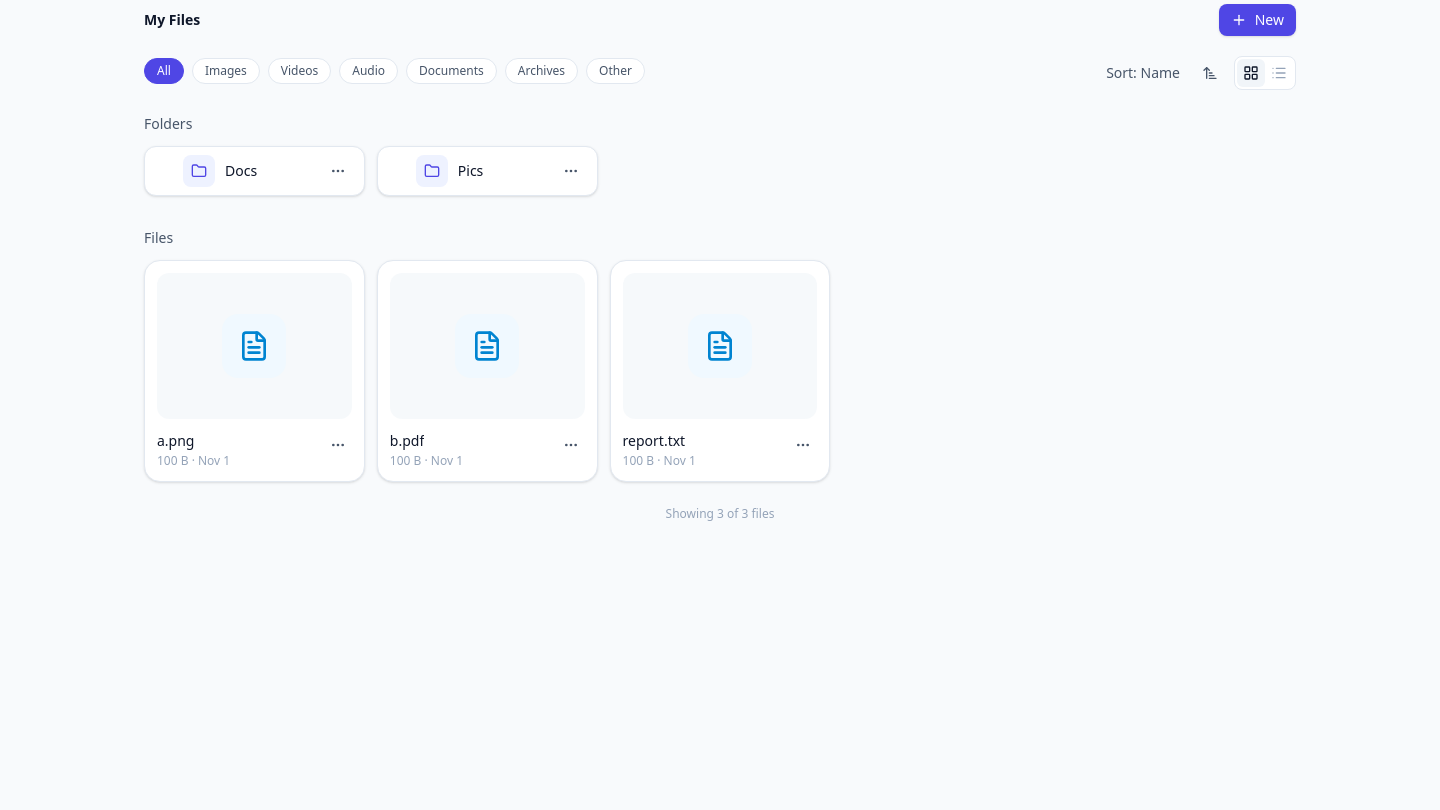
Test: rename › shows "name taken" on the field for folders
Expected: the button "report.txt" is shown, [623, 431, 685, 451]
Step 1. Click the button named "Actions for Docs" → point(338, 171), box [324, 157, 352, 185]
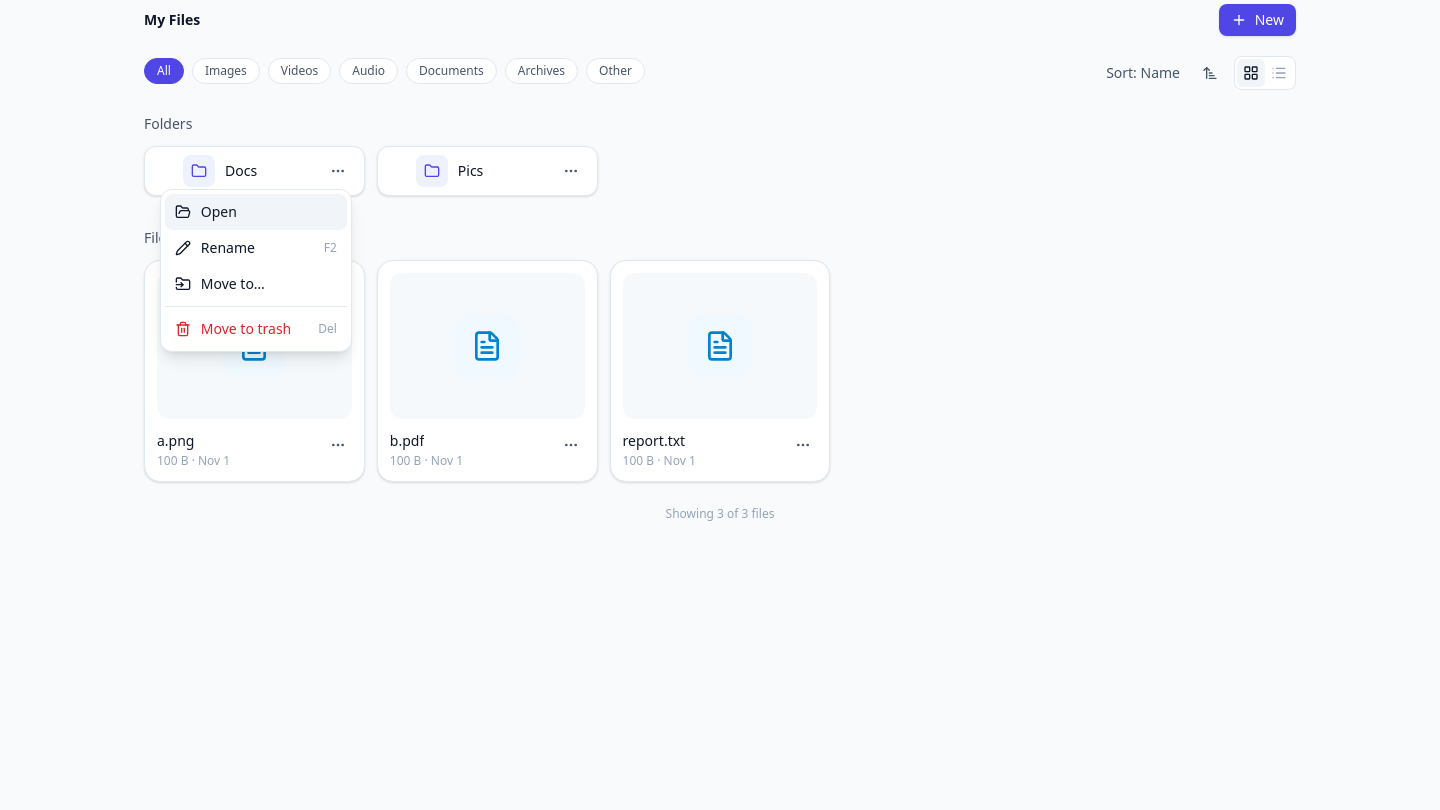
Step 2. Click the menu item "Rename F2" → point(256, 248), box [165, 230, 347, 266]
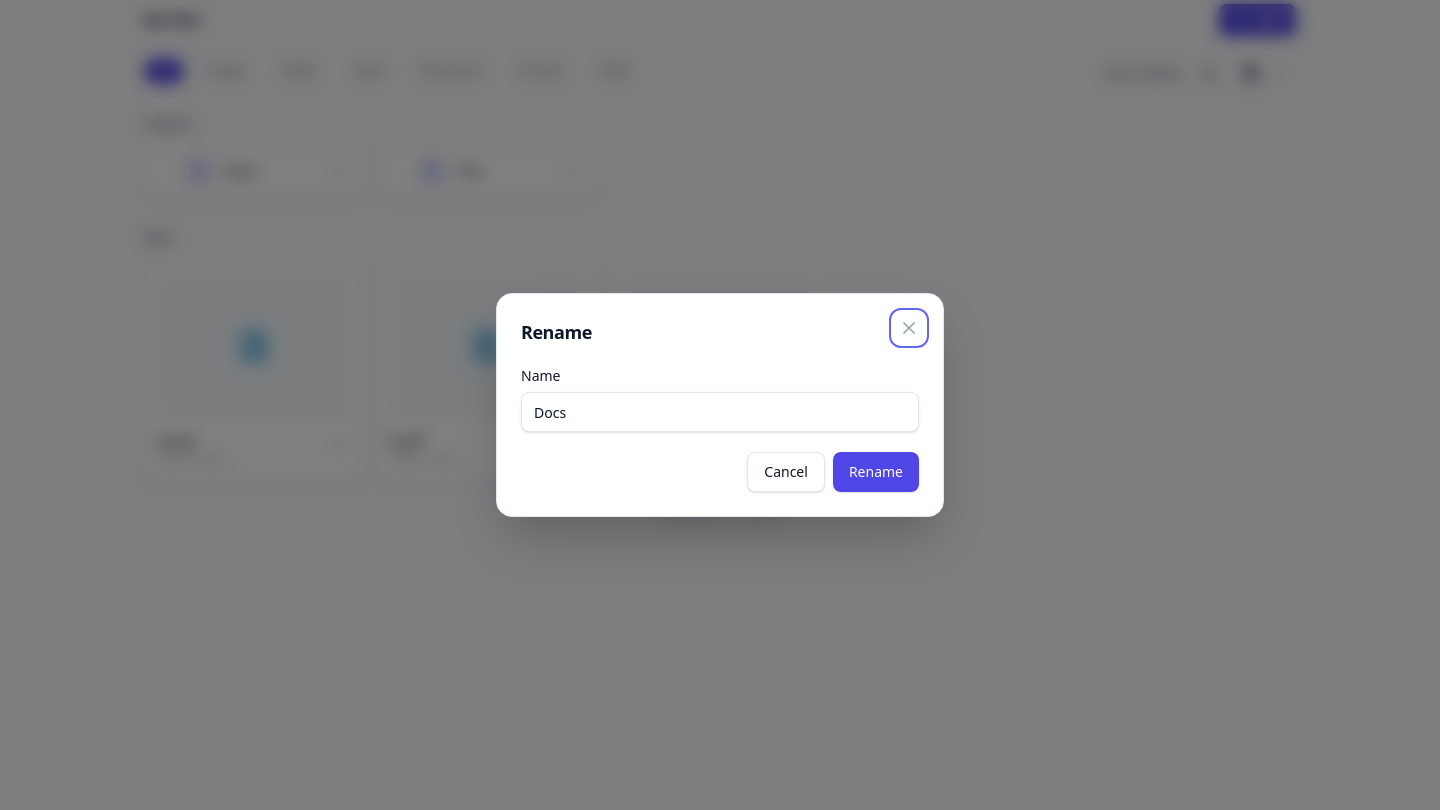
Step 3. Replace the text in the field labelled "Name" with "Pics" → point(720, 412), box [521, 392, 919, 432]
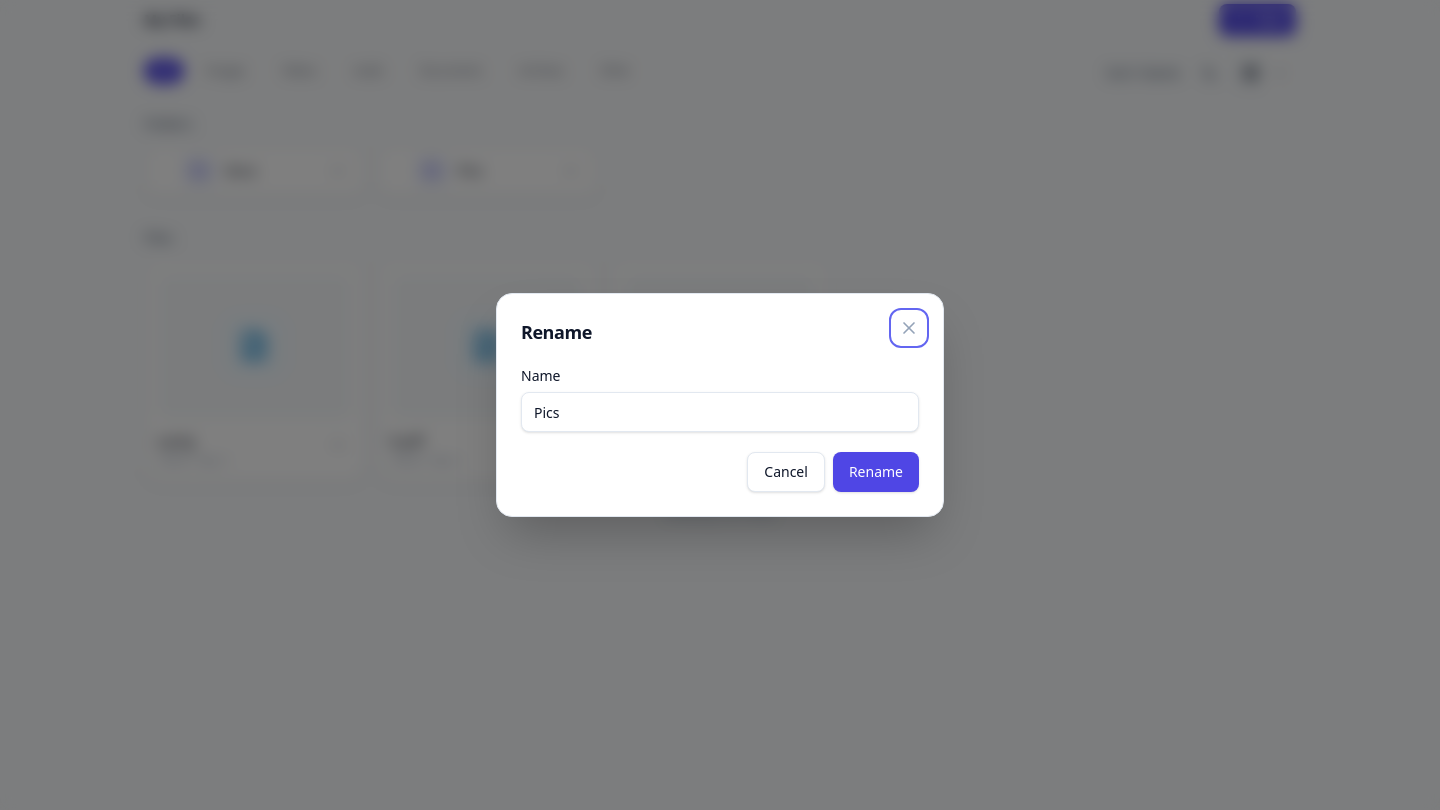
Step 4. Click the button "Rename" → point(876, 472), box [833, 452, 919, 492]
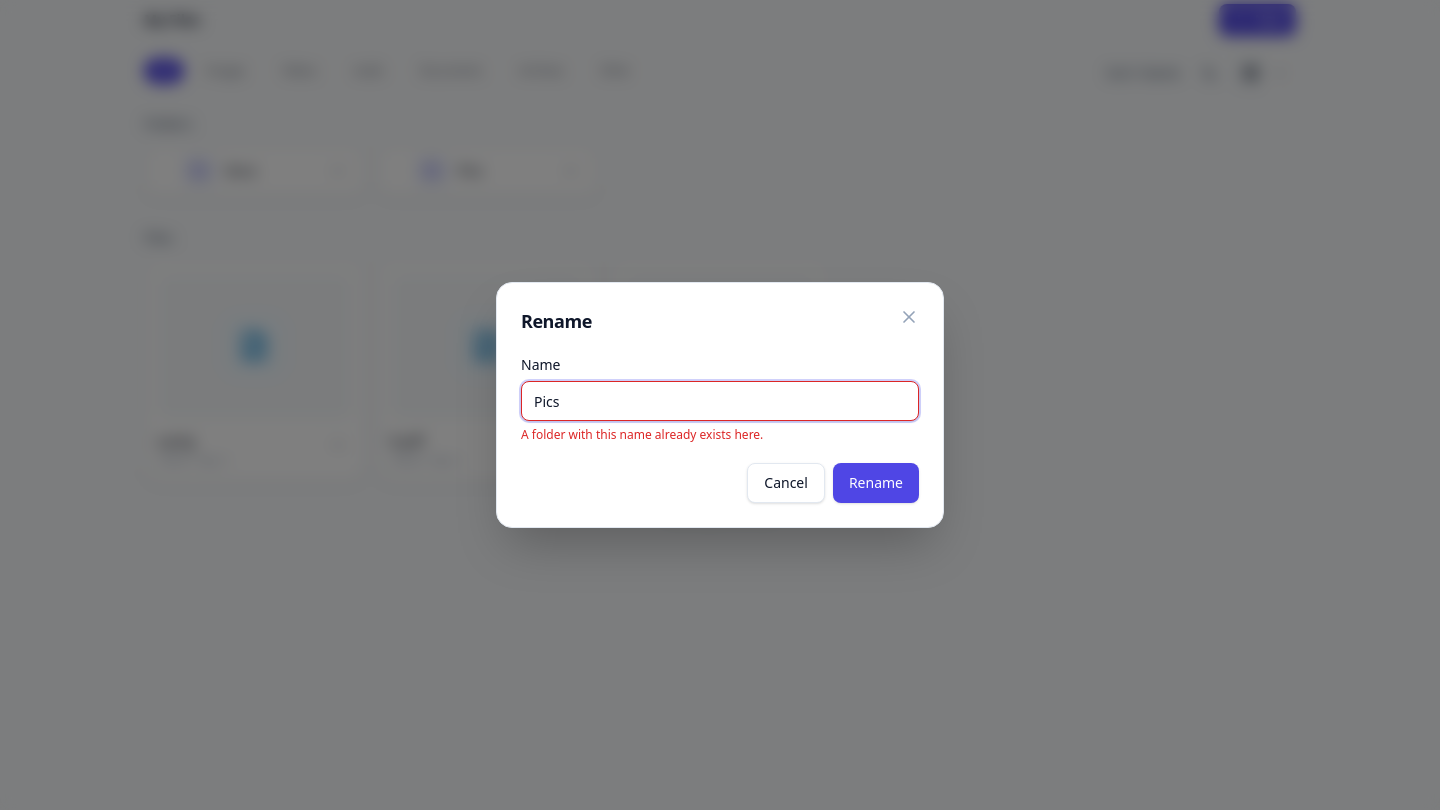
Expected: the text "A folder with this name already exists here." is shown, [521, 426, 763, 443]
